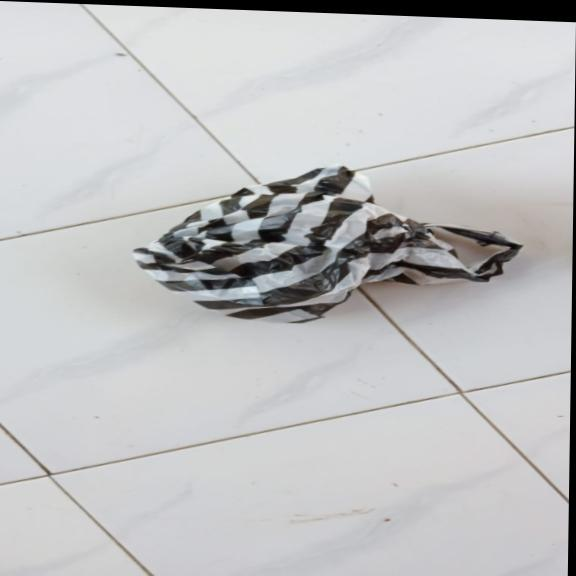Plastik: (129, 157, 526, 332)
